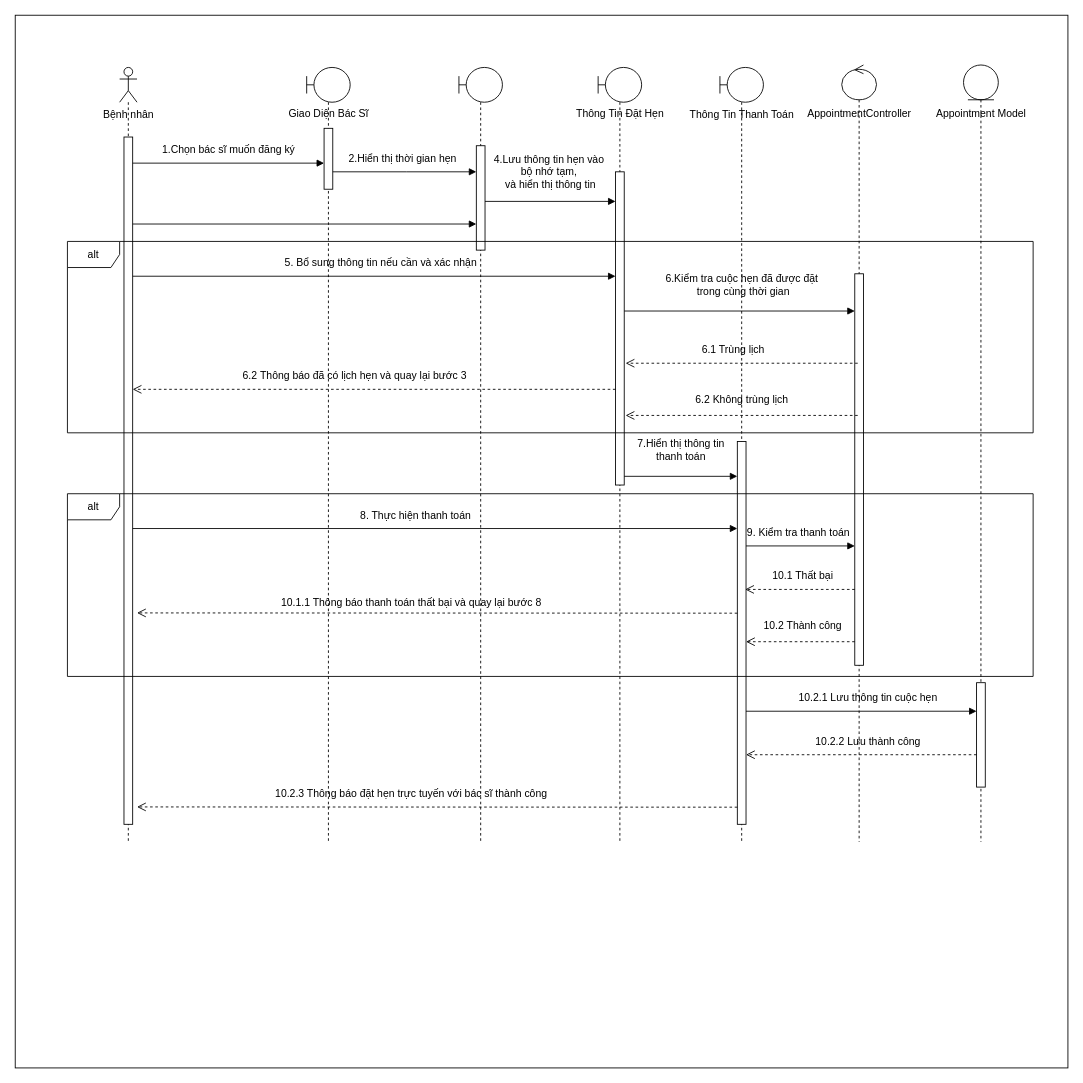
Some shapes in this 1083 by 1083 pixel diagram are drawn without their labels. The shapes that lost their labels are listed below. From the top down, each one's box as (x1, y1, x2, y2) in pixels, then its label:
(306, 67, 350, 842): 3. Chọn thời gian hẹn và xác nhận
(458, 67, 502, 842): Thời Gian Lịch Hẹn
